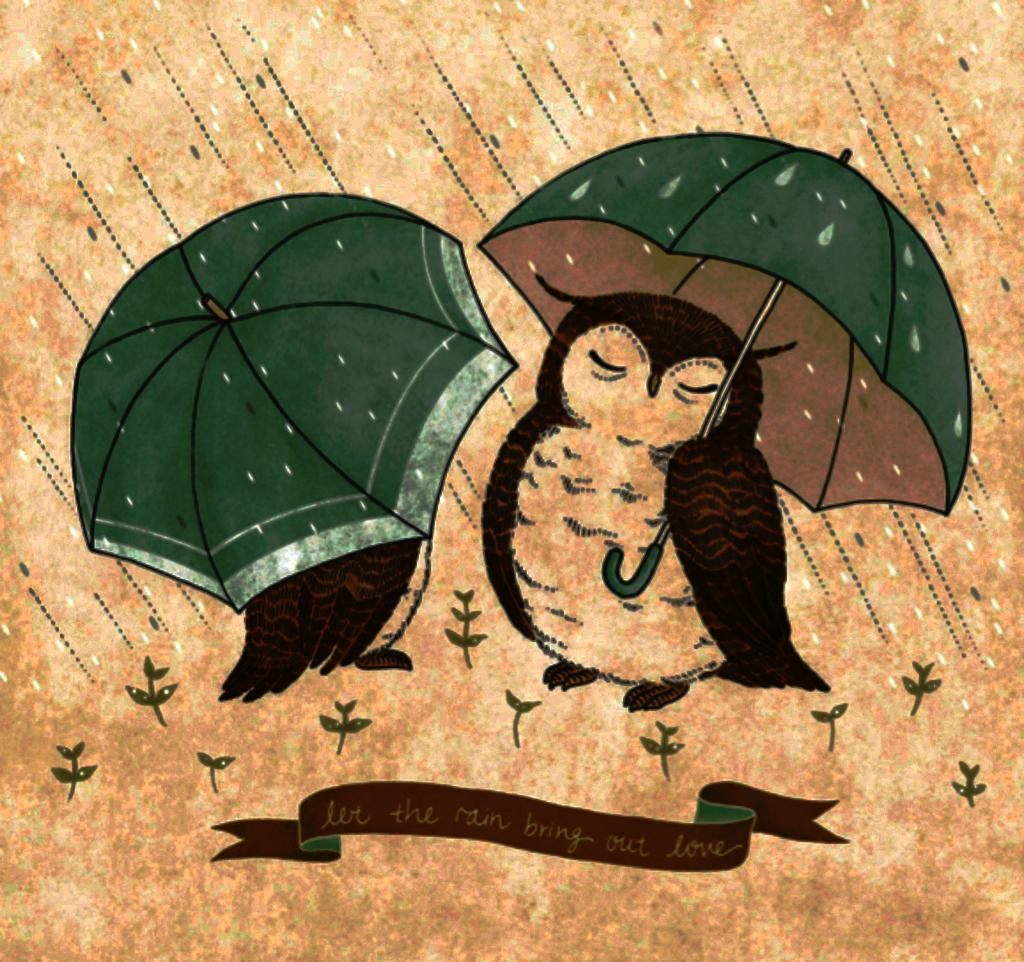Owl: (482, 272, 830, 713), (218, 340, 430, 702)
